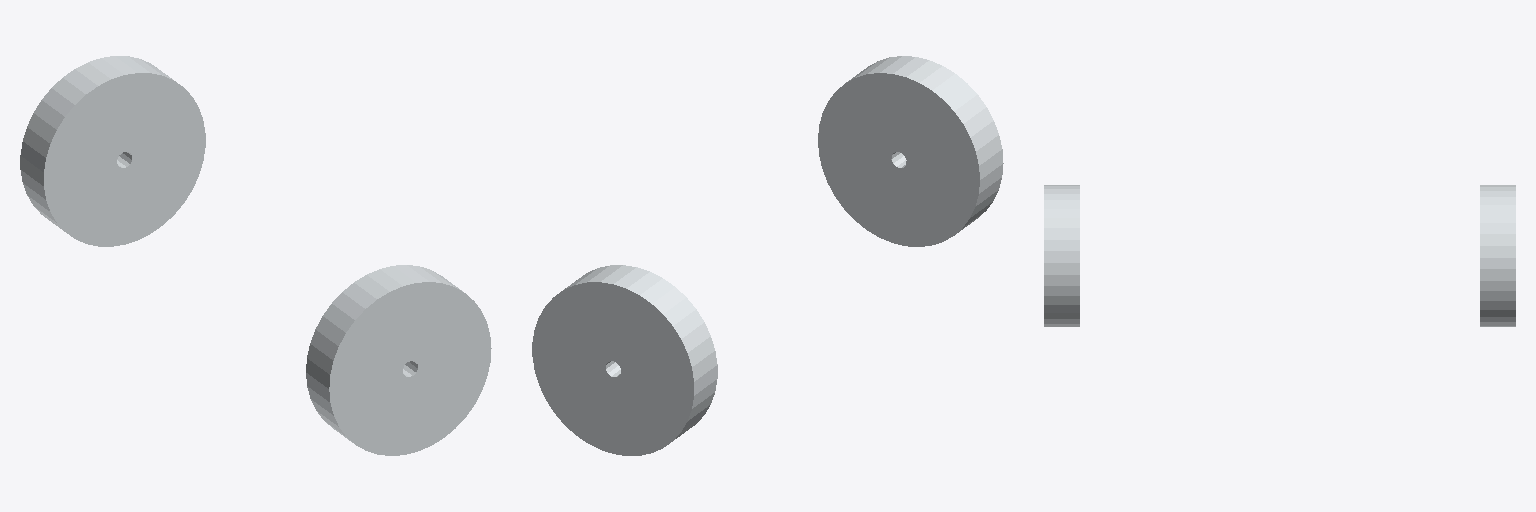
URDF robot description (zeus):
<?xml version = "1.0" ?>
<robot
  name="zeus">
  <link name="base_link"> </link>

  <link name="base_footprint"></link>

  <joint name="base_footprint_joint" type="fixed">
	<origin xyz="0.34 -0.02 0" rpy="0 0 0" />
	<parent link="base_footprint"/>
	<child link="base_link"/>
  </joint>

   <link name="imu_link">
  </link>
  <joint name="imu_joint" type="fixed">
	<origin xyz="0.432 0.085 0" rpy="0 0 0" />
	<parent link="base_link"/>
	<child link="imu_link"/>
  </joint>


  <link name="frontlidar"> </link>
  <joint
    name="fr_lidar_h"
    type="fixed">
    <origin
      xyz="0.5395 -0.42 0"
      rpy="0 0 -0.7853" />
    <parent
      link="base_link" />
    <child
      link="frontlidar" />
    <axis
      xyz="0 0 0" />
  </joint>

  <link name="frontlidar_top"> </link>
  <joint
    name="fr_lidar_h_t"
    type="fixed">
    <origin
      xyz="0.475931 -0.348431 0.9"
      rpy="0 0 -0.770398" />
    <parent
      link="base_link" />
    <child
      link="frontlidar_top" />
    <axis
      xyz="0 0 1" />
  </joint>

  <link name="rearlidar"> </link>
  <joint
    name="rr_lidar_h"
    type="fixed">
    <origin
      xyz="-0.5396 0.42 0"
      rpy="0 0 2.3561" />
    <parent
      link="base_link" />
    <child
      link="rearlidar" />
    <axis
      xyz="0 0 0" />
  </joint>

  <link name="rearlidar_top"> </link>
  <joint
    name="rr_lidar_h_t"
    type="fixed">
    <origin
      xyz="-0.535931 0.348431 0.90"
      rpy="0 0 2.341194" />
    <parent
      link="base_link" />
    <child
      link="rearlidar_top" />
    <axis
      xyz="0 0 1" />
  </joint>

  <link name="camera_link"> </link>
  
  <joint
    name="camera_link_h"
    type="fixed">
    <origin
      xyz="-0.4696 0 0.10"
      rpy="0 -1.57 0" />
    <parent
      link="base_link" />
    <child
      link="camera_link" />
    <axis
      xyz="0 0 0" />
  </joint>

<link
    name="rear_right">
    <inertial>
      <origin
        xyz="1.11022302462516E-16 -0.0249999999999997 -5.55111512312578E-17"
        rpy="0 0 0" />
      <mass
        value="4.20287370285305" />
      <inertia
        ixx="0.0114776102831476"
        ixy="-2.83870510583311E-17"
        ixz="-8.67361737988404E-19"
        iyy="0.0212040231901065"
        iyz="1.29509923971745E-17"
        izz="0.0114776102831476" />
    </inertial>
    <visual>
      <origin
        xyz="0 0 0"
        rpy="0 0 0" />
      <geometry>
        <mesh
          filename="package://sdv_description/urdf/meshes/rear_right.STL" />
      </geometry>
      <material
        name="">
        <color
          rgba="0.898039215686275 0.917647058823529 0.929411764705882 1" />
      </material>
    </visual>
    <collision>
      <origin
        xyz="0 0 0"
        rpy="0 0 0" />
      <geometry>
        <cylinder length="0.08" radius="0.125"/>           
      </geometry>
    </collision>
  </link>


  <joint
    name="r_r_h"
    type="continuous">
    <origin
      xyz="0 -0.28 0.0999999999999992"
      rpy="3.14159265358979 -1.23330957383996 -3.14159265358979" />
    <parent
      link="base_footprint" />
    <child
      link="rear_right" />
    <axis
      xyz="0 1 0" />
  </joint>


  <link
    name="rear_left">
    <inertial>
      <origin
        xyz="0 0.025 -1.38777878078145E-17"
        rpy="0 0 0" />
      <mass
        value="4.20287370285305" />
      <inertia
        ixx="0.0114776102831476"
        ixy="-7.11326584524164E-22"
        ixz="8.67361737988404E-19"
        iyy="0.0212040231901065"
        iyz="2.55381220766474E-19"
        izz="0.0114776102831476" />
    </inertial>
    <visual>
      <origin
        xyz="0 0 0"
        rpy="0 0 0" />
      <geometry>
        <mesh
          filename="package://sdv_description/urdf/meshes/rear_left.STL" />
      </geometry>
      <material
        name="">
        <color
          rgba="0.898039215686275 0.917647058823529 0.929411764705882 1" />
      </material>
    </visual>
    <collision>
      <origin
        xyz="0 0 0"
        rpy="0 0 0" />
      <geometry>       
          <cylinder length="0.08" radius="0.125"/>       
      </geometry>
    </collision>
  </link>


  <joint
    name="r_l_h"
    type="continuous">
    <origin
      xyz="0 0.28 0.1"
      rpy="3.14159265358979 1.32303231890829 3.14159265358979" />
    <parent
      link="base_footprint" />
    <child
      link="rear_left" />
    <axis
      xyz="0 1 0" />
  </joint>



</robot>

--- What the picture shows (computed from the rendered views, not written in the file) ---
3 views of the same robot in one strip: view 1: azimuth 30°, elevation 25°; view 2: azimuth 150°, elevation 25°; view 3: azimuth 270°, elevation 25° (orthographic).
Robot: zeus — 10 links, 9 joints (2 continuous, 7 fixed); root link base_footprint; default pose: every joint at zero.
Visible links, largest first — view 1: rear_left, rear_right; view 2: rear_left, rear_right; view 3: rear_right, rear_left.
Boxes of the visible links, box(x1,y1,x2,y2) form: rear_left: box(20, 56, 205, 246); rear_right: box(306, 265, 491, 455); rear_left: box(532, 265, 717, 455); rear_right: box(818, 56, 1003, 246); rear_right: box(1044, 185, 1079, 326); rear_left: box(1480, 185, 1515, 326).
Bounding box of the posed robot: 0.2 × 0.66 × 0.2 m (x, y, z).
2 mesh visuals loaded from 2 distinct referenced files (2 binary STL).
